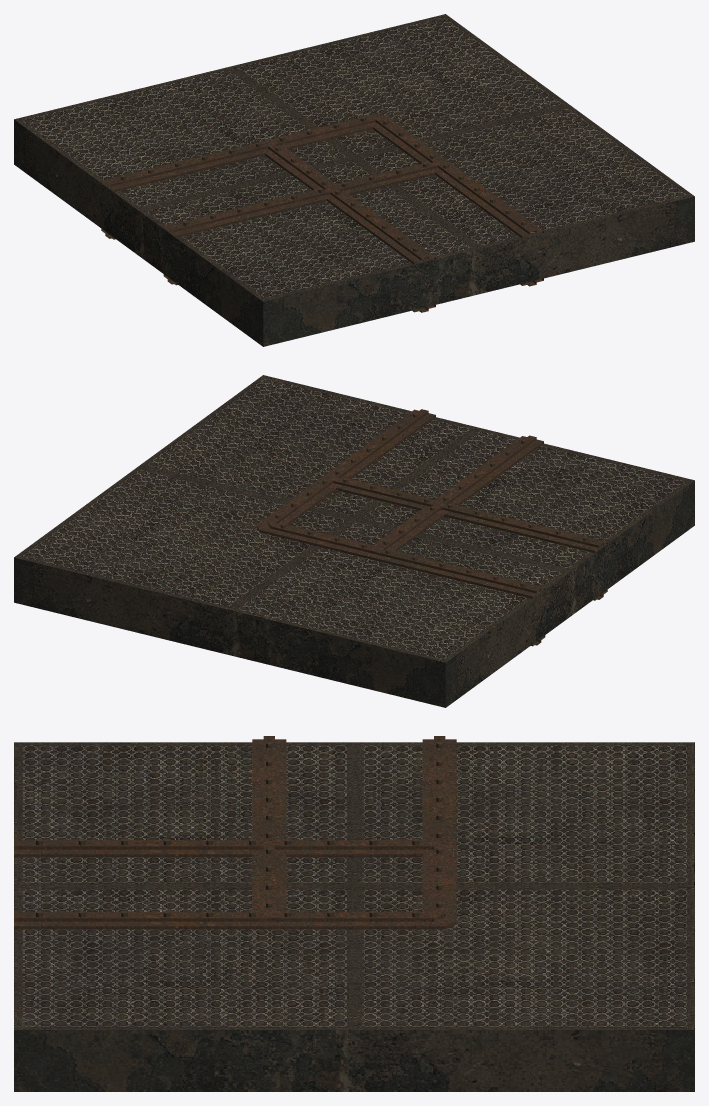
The model's file is floor_ceiling_rtx_1_corner.glb.
3 views of the same model, one above another, from view 1: azimuth 30°, elevation 25°; view 2: azimuth 150°, elevation 25°; view 3: azimuth 270°, elevation 25° (orthographic). The views are drawn at different scales.
Visible parts, largest first — view 1: floor_ceiling_rtx_1_corner; view 2: floor_ceiling_rtx_1_corner; view 3: floor_ceiling_rtx_1_corner.
Part boxes in pixels (bbox=[...]): floor_ceiling_rtx_1_corner: bbox=[14, 14, 694, 346]; floor_ceiling_rtx_1_corner: bbox=[14, 375, 694, 707]; floor_ceiling_rtx_1_corner: bbox=[14, 736, 694, 1091].
Bounding box in the file's own units: 4 × 0.5303 × 4.
Materials: 3 (3 with a texture image).
